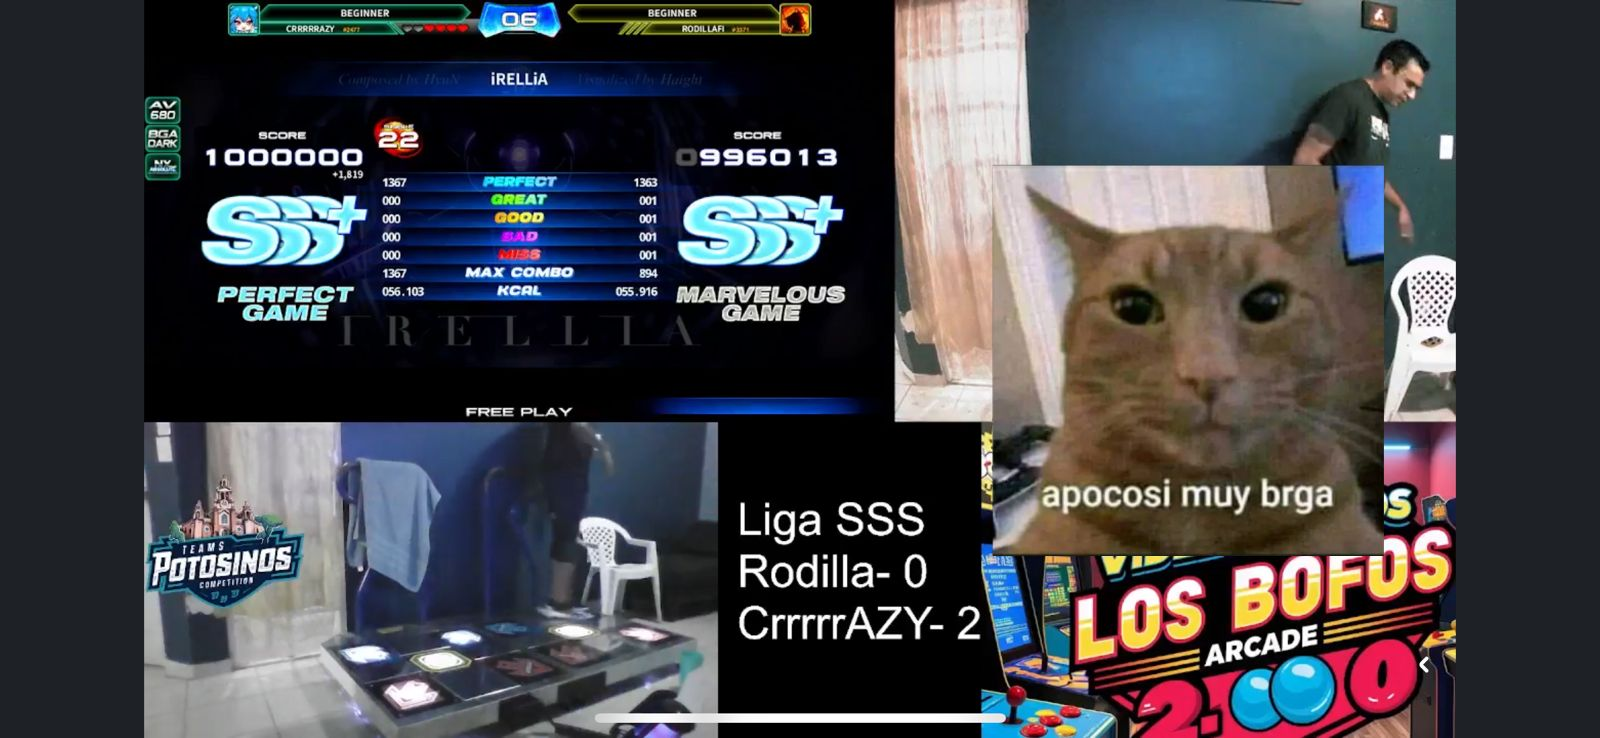difficulty: (368, 116, 447, 159)
fullscore: (126, 0, 571, 411)
rank: (194, 200, 378, 275)
score: (197, 122, 372, 175)
song_name: (365, 62, 718, 103)
